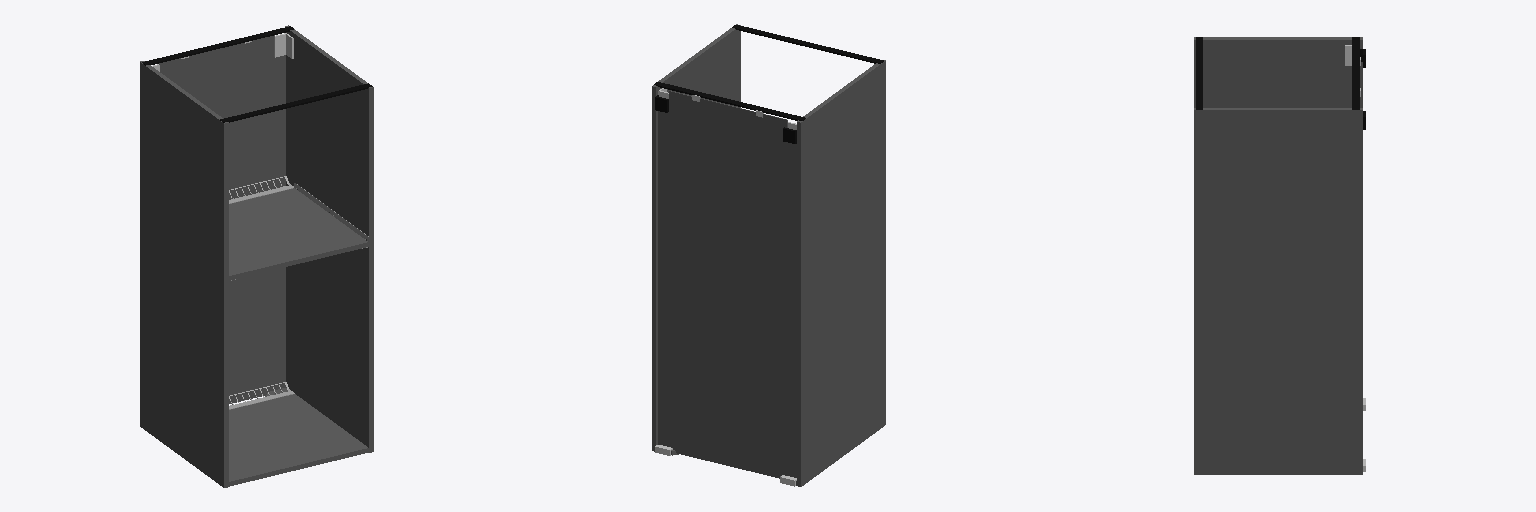
File: IKEA.ART.30213571.obj
3 renders of one model, left to right at view 1: azimuth 30°, elevation 25°; view 2: azimuth 150°, elevation 25°; view 3: azimuth 270°, elevation 25°, orthographic.
Parts seen in each view (by area): view 1: model_model.009; view 2: model_model.009; view 3: model_model.009.
Boxes of the visible parts, x1=… form: model_model.009: x1=140, y1=25, x2=373, y2=487; model_model.009: x1=652, y1=24, x2=885, y2=486; model_model.009: x1=1194, y1=37, x2=1365, y2=474.
Size of the model in its own units: 0.6 by 1.4 by 0.6.